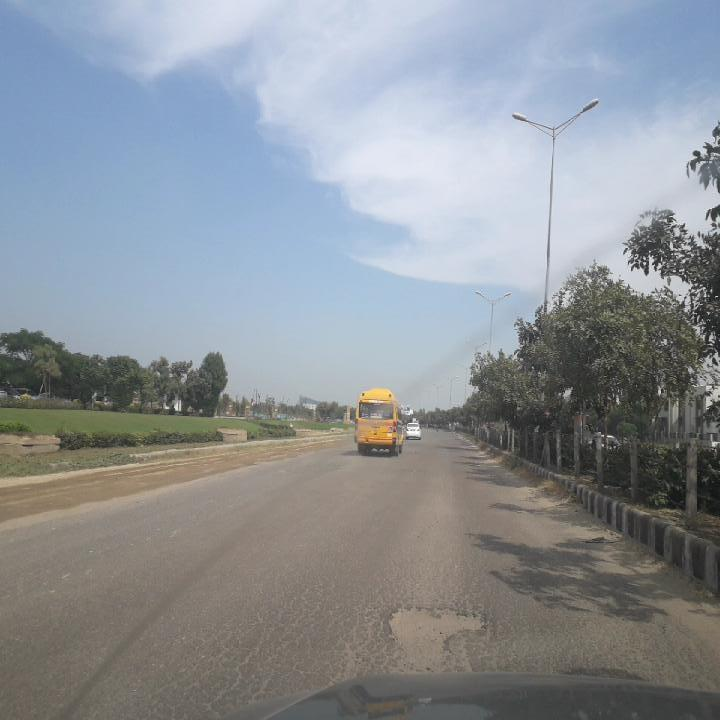pothole: (378, 596, 496, 672)
